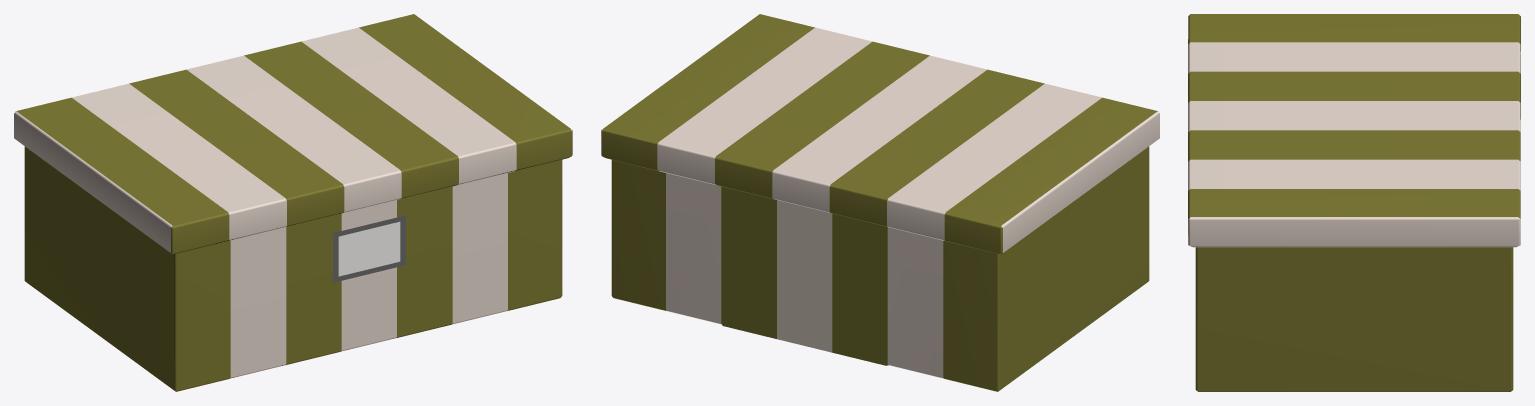
File: Storage_box_3.glb
3 renders of one model, left to right at view 1: azimuth 30°, elevation 25°; view 2: azimuth 150°, elevation 25°; view 3: azimuth 270°, elevation 25°, orthographic. The views are drawn at different scales.
Parts seen in each view (by area): view 1: Storage_box_3; view 2: Storage_box_3; view 3: Storage_box_3.
Boxes of the visible parts, <box> form: Storage_box_3: <box>14,14,572,391</box>; Storage_box_3: <box>601,14,1159,391</box>; Storage_box_3: <box>1188,14,1520,391</box>.
Size of the model in its own units: 0.4522 by 0.1833 by 0.3098.
1 material, 1 textured.
